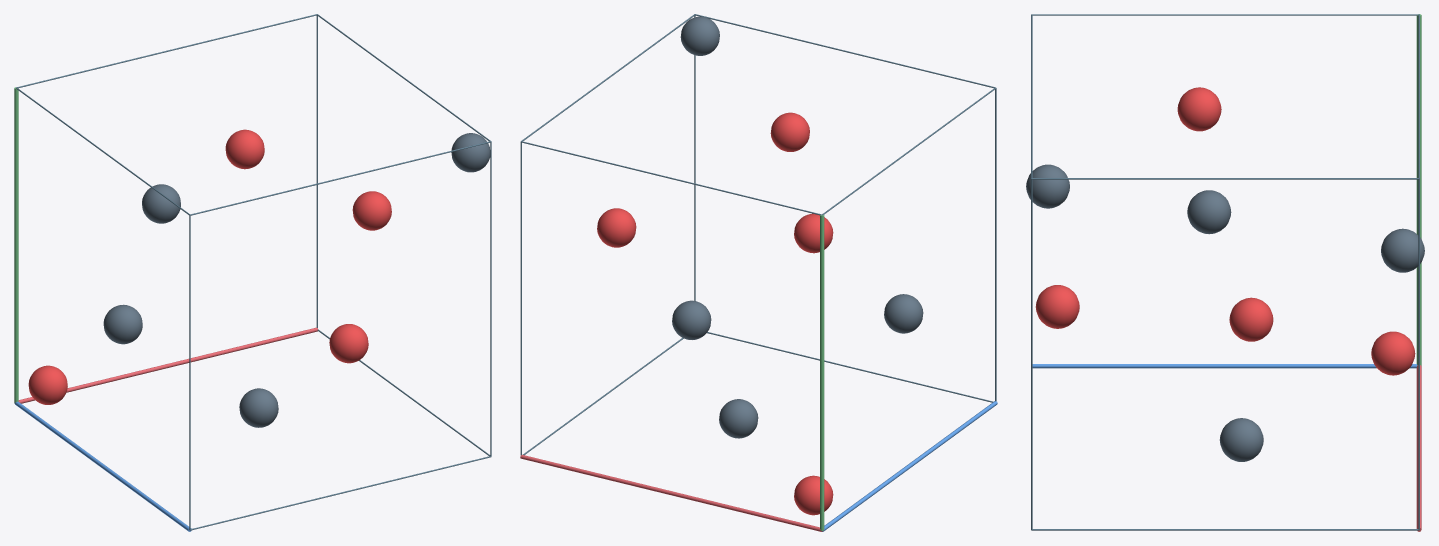
The model's file is chat-solid-carbon-monoxide.glb.
3 views of the same model, side by side, from view 1: azimuth 30°, elevation 25°; view 2: azimuth 150°, elevation 25°; view 3: azimuth 270°, elevation 25° (orthographic). The views are drawn at different scales.
Visible parts, largest first — view 1: Ô mạng và các trục a, b, c, O · O · 1 (×4), C · C · 1 (×4); view 2: Ô mạng và các trục a, b, c, C · C · 1 (×4), O · O · 1 (×4); view 3: Ô mạng và các trục a, b, c, O · O · 1 (×4), C · C · 1 (×4).
Boxes of the visible parts, box(x1,y1,x2,y2) form: Ô mạng và các trục a, b, c: box(14, 14, 491, 531); O · O · 1 (×4): box(28, 129, 391, 404); C · C · 1 (×4): box(103, 133, 490, 427); Ô mạng và các trục a, b, c: box(520, 14, 997, 531); C · C · 1 (×4): box(672, 16, 923, 438); O · O · 1 (×4): box(597, 112, 833, 515); Ô mạng và các trục a, b, c: box(1031, 14, 1421, 531); O · O · 1 (×4): box(1035, 87, 1415, 375); C · C · 1 (×4): box(1026, 164, 1424, 461).
Bounding box in the file's own units: 5.8 × 5.8 × 5.8.
